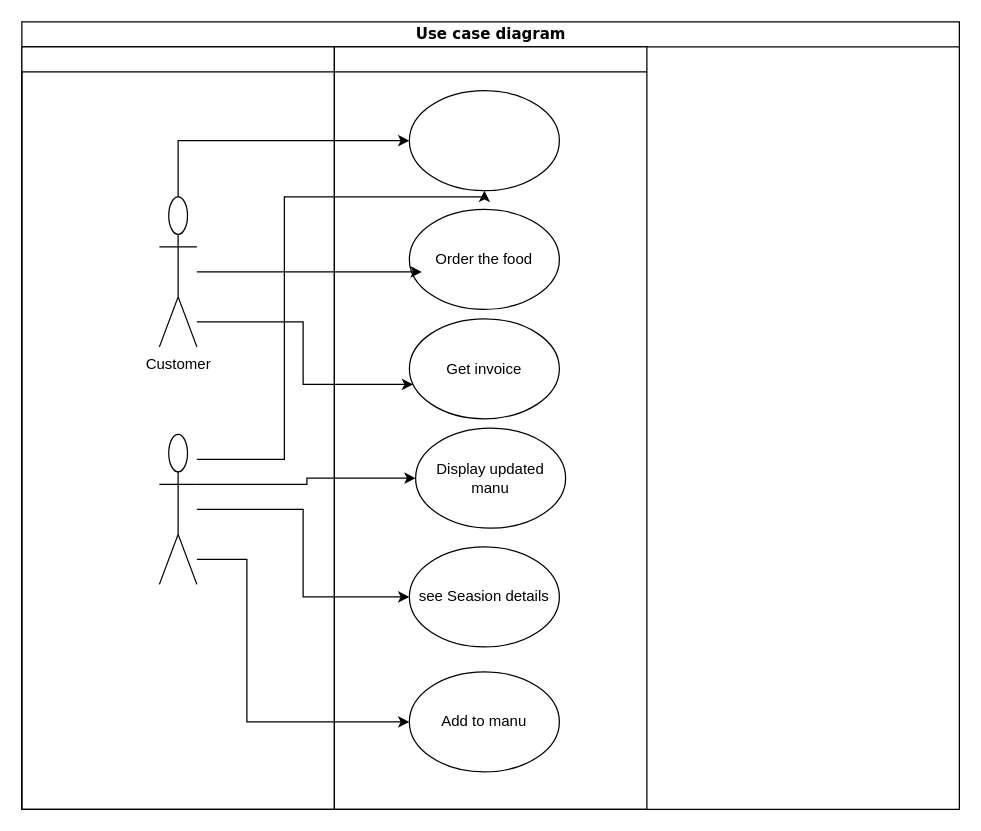
The diagram is 981 pixels wide and 831 high, and some of its shapes have lost their labels. The shapes that lost their labels are listed below. From the top down, each one's centre as x and y in pixels, then its label:
the point at 483,140: Display manu
the point at 177,508: Admin
